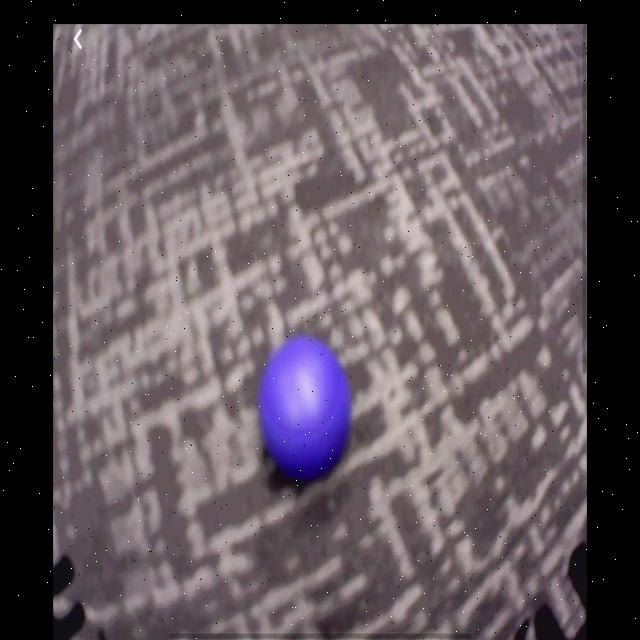ball: (262, 339, 351, 475)
